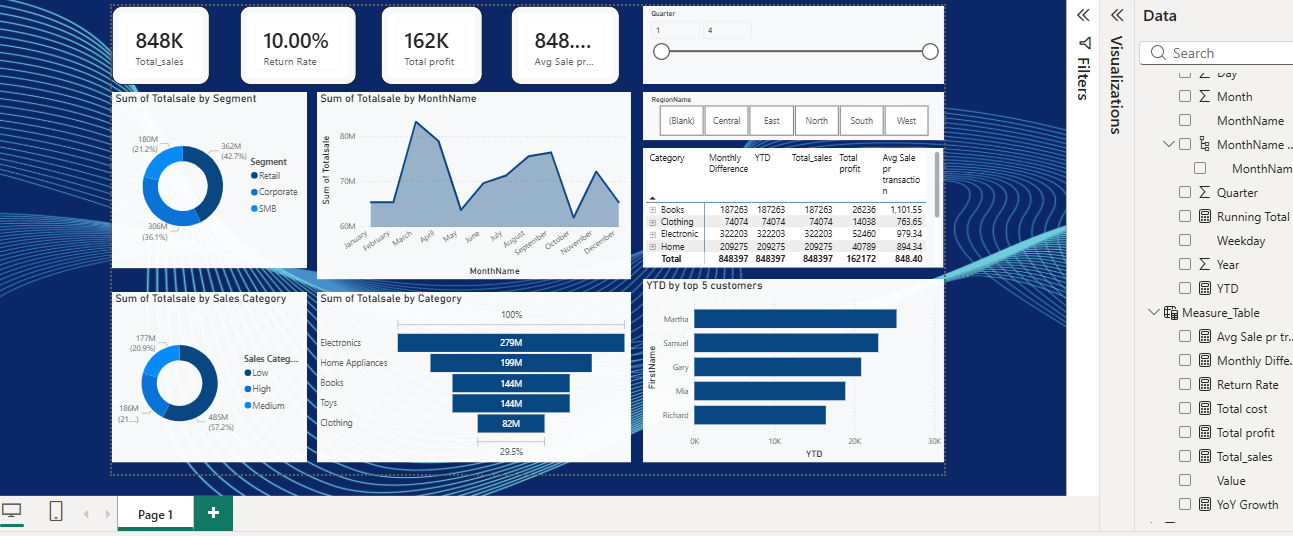

This screenshot's page, from the dashboard's own definition file:
{"tool":"powerbi","page":{"name":"Page 1","canvas":[1280,720],"ordinal":0},"visuals":[{"type":"pivotTable","fields":{"Rows":["Product_Dim.Category","Region_Dim.RegionName","Date_Dim.MonthName"],"Values":["Measure_Table.Monthly Difference","Date_Dim.YTD","Measure_Table.Total_sales","Measure_Table.Total profit","Measure_Table.Avg Sale pr transaction"]},"box":[817.2,219,462.1,184.5],"z":0},{"type":"donutChart","fields":{"Category":["Customer_Dim.Segment"],"Y":["Sum(Sales_Fact.Totalsale)"]},"box":[0,132.3,300,270.8],"z":1},{"type":"funnel","fields":{"Category":["Product_Dim.Category"],"Y":["Sum(Sales_Fact.Totalsale)"]},"box":[315.4,440,483.1,261.5],"z":2},{"type":"areaChart","fields":{"Category":["Date_Dim.MonthName"],"Y":["Sum(Sales_Fact.Totalsale)"]},"box":[315.4,132.3,483.1,287.7],"z":3},{"type":"barChart","title":"YTD by top 5 customers","fields":{"Category":["Customer_Dim.FirstName"],"Y":["Date_Dim.YTD"]},"box":[816.9,420,463.1,281.5],"z":4},{"type":"donutChart","fields":{"Category":["Sales_Fact.Sales Category"],"Y":["Sum(Sales_Fact.Totalsale)"]},"box":[0,440,300,261.5],"z":5},{"type":"cardVisual","fields":{"Data":["Measure_Table.Return Rate"]},"box":[196.2,0,178.8,121.2],"z":6},{"type":"cardVisual","fields":{"Data":["Measure_Table.Total_sales"]},"box":[0,0,150,121.2],"z":7},{"type":"cardVisual","fields":{"Data":["Measure_Table.Avg Sale pr transaction"]},"box":[613.5,0,167.3,121.2],"z":8},{"type":"cardVisual","fields":{"Data":["Measure_Table.Total profit"]},"box":[413.5,0,155.8,121.2],"z":9},{"type":"slicer","fields":{"Values":["Date_Dim.Quarter"]},"box":[816.9,0,463.1,120],"z":10},{"type":"slicer","fields":{"Values":["Region_Dim.RegionName"]},"box":[816.9,132.3,463.1,73.8],"z":11}]}

Visuals, with their boxes on the page's 1280x720 design canvas (x1, y1, x2, y2). These are canvas units, not pixel positions in the 1293x536 screenshot, which may show the page scaled, cropped or inside an application window:
pivotTable - Product_Dim.Category x Region_Dim.RegionName: rect(817, 219, 1279, 404)
donutChart - Customer_Dim.Segment x Sum(Sales_Fact.Totalsale): rect(0, 132, 300, 403)
funnel - Product_Dim.Category x Sum(Sales_Fact.Totalsale): rect(315, 440, 798, 702)
areaChart - Date_Dim.MonthName x Sum(Sales_Fact.Totalsale): rect(315, 132, 798, 420)
"YTD by top 5 customers" barChart: rect(817, 420, 1280, 702)
donutChart - Sales_Fact.Sales Category x Sum(Sales_Fact.Totalsale): rect(0, 440, 300, 702)
cardVisual - Measure_Table.Return Rate: rect(196, 0, 375, 121)
cardVisual - Measure_Table.Total_sales: rect(0, 0, 150, 121)
cardVisual - Measure_Table.Avg Sale pr transaction: rect(614, 0, 781, 121)
cardVisual - Measure_Table.Total profit: rect(414, 0, 569, 121)
slicer - Date_Dim.Quarter: rect(817, 0, 1280, 120)
slicer - Region_Dim.RegionName: rect(817, 132, 1280, 206)
